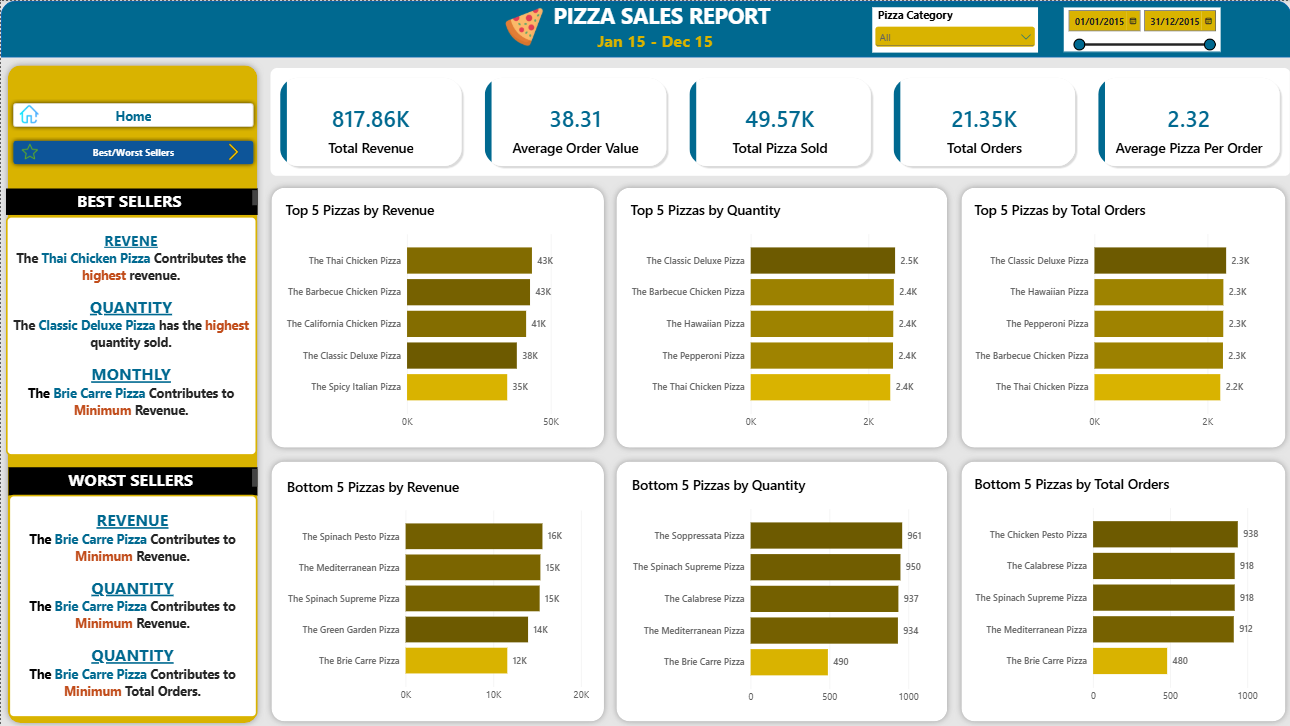

The page's visual inventory and layout, read from the dashboard file:
{"tool":"powerbi","page":{"name":"Best/Worst Sellers ","canvas":[1920,1080],"ordinal":1},"visuals":[{"type":"cardVisual","fields":{"Data":["pizza_sales.Total Revenue","pizza_sales.Average Order Value","pizza_sales.Total Pizza Sold","pizza_sales.Total Orders","pizza_sales.Average Pizza Per Order"]},"box":[397.5,97.5,1513.8,162.5],"z":0},{"type":"shape","box":[0,0,1911.2,83.8],"z":1000},{"type":"textbox","box":[819.1,0,322.8,42.9],"z":2000},{"type":"shape","box":[0,85.8,390,994.5],"z":3000},{"type":"shape","box":[390,267.5,512.5,405],"z":4000},{"type":"textbox","box":[884,42,216,42],"z":5000},{"type":"image","box":[736,10,80,58],"z":6000},{"type":"textbox","box":[7.8,277.8,373.2,39.2],"z":7000},{"type":"textbox","box":[6.7,318.3,371.7,355],"z":8000},{"type":"textbox","box":[11.4,690,368.6,41.4],"z":9000},{"type":"textbox","box":[11.4,731.4,368.6,330],"z":10000},{"type":"slicer","fields":{"Values":["pizza_sales.pizza_category"]},"box":[1290,8.6,245.7,67.1],"z":11000},{"type":"slicer","fields":{"Values":["pizza_sales.order_date"]},"box":[1574.3,10,232.9,65.7],"z":12000},{"type":"shape","box":[902.5,267.5,510,405],"z":13000},{"type":"shape","box":[1412.5,267.5,500,405],"z":14000},{"type":"shape","box":[390,672.5,512.5,405],"z":15000},{"type":"shape","box":[902.5,672.5,510,405],"z":16000},{"type":"shape","box":[1412.5,672.5,500,405],"z":17000},{"type":"barChart","title":"Top 5 Pizzas by Revenue","fields":{"Category":["pizza_sales.pizza_name"],"Y":["pizza_sales.Total Revenue"]},"box":[405.5,282,479.6,372.6],"z":18000},{"type":"barChart","title":"Bottom 5 Pizzas by Revenue","fields":{"Category":["pizza_sales.pizza_name"],"Y":["pizza_sales.Total Revenue"]},"box":[407.5,691.6,480,367.5],"z":19000},{"type":"barChart","title":"Top 5 Pizzas by Quantity","fields":{"Category":["pizza_sales.pizza_name"],"Y":["pizza_sales.Total Pizza Sold"]},"box":[916,282,479.6,372.6],"z":20000},{"type":"barChart","title":"Bottom 5 Pizzas by Quantity","fields":{"Category":["pizza_sales.pizza_name"],"Y":["pizza_sales.Total Pizza Sold"]},"box":[918,689.5,477.5,372.6],"z":21000},{"type":"barChart","title":"Top 5 Pizzas by Total Orders","fields":{"Category":["pizza_sales.pizza_name"],"Y":["pizza_sales.Total Orders"]},"box":[1426.4,282,469.3,372.6],"z":22000},{"type":"barChart","title":"Bottom 5 Pizzas by Total Orders","fields":{"Category":["pizza_sales.pizza_name"],"Y":["pizza_sales.Total Orders"]},"box":[1426.4,687.5,469.3,372.6],"z":23000},{"type":"pageNavigator","box":[10.3,199.7,370.5,49.4],"z":23001},{"type":"pageNavigator","box":[10.3,144.1,370.5,49.4],"z":23002},{"type":"image","box":[318,211,51.5,24.7],"z":23003},{"type":"image","box":[28,149,28,39],"z":23004},{"type":"image","box":[20,212,45,24],"z":23005}]}

Visuals, with their boxes in screenshot pixels (x1, y1, x2, y2), scaled from the page's 1920x1080 canvas onto the 1290x726 screenshot:
cardVisual - pizza_sales.Total Revenue x pizza_sales.Average Order Value: bbox(267, 66, 1284, 175)
shape: bbox(0, 0, 1284, 56)
textbox: bbox(550, 0, 767, 29)
shape: bbox(0, 58, 262, 725)
shape: bbox(262, 180, 606, 452)
textbox: bbox(594, 28, 739, 56)
image: bbox(494, 7, 548, 46)
textbox: bbox(5, 187, 256, 213)
textbox: bbox(5, 214, 254, 453)
textbox: bbox(8, 464, 255, 492)
textbox: bbox(8, 492, 255, 713)
slicer - pizza_sales.pizza_category: bbox(867, 6, 1032, 51)
slicer - pizza_sales.order_date: bbox(1058, 7, 1214, 51)
shape: bbox(606, 180, 949, 452)
shape: bbox(949, 180, 1285, 452)
shape: bbox(262, 452, 606, 724)
shape: bbox(606, 452, 949, 724)
shape: bbox(949, 452, 1285, 724)
"Top 5 Pizzas by Revenue" barChart: bbox(272, 190, 595, 440)
"Bottom 5 Pizzas by Revenue" barChart: bbox(274, 465, 596, 712)
"Top 5 Pizzas by Quantity" barChart: bbox(615, 190, 938, 440)
"Bottom 5 Pizzas by Quantity" barChart: bbox(617, 463, 938, 714)
"Top 5 Pizzas by Total Orders" barChart: bbox(958, 190, 1274, 440)
"Bottom 5 Pizzas by Total Orders" barChart: bbox(958, 462, 1274, 713)
pageNavigator: bbox(7, 134, 256, 167)
pageNavigator: bbox(7, 97, 256, 130)
image: bbox(214, 142, 248, 158)
image: bbox(19, 100, 38, 126)
image: bbox(13, 143, 44, 159)
